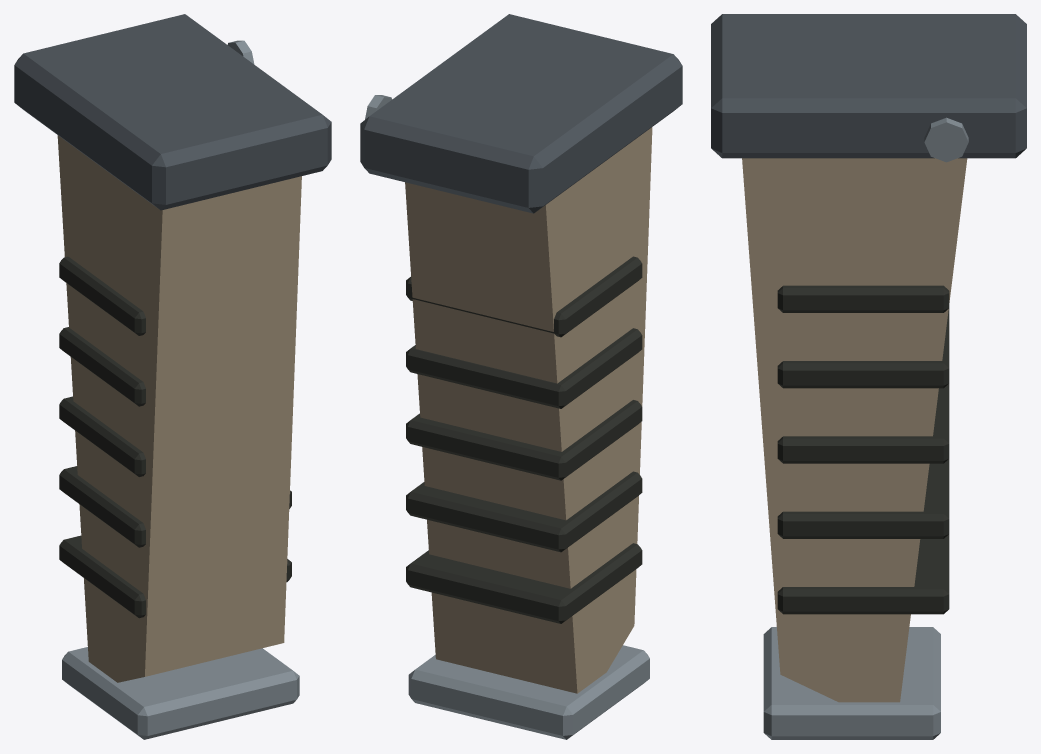
File: att_grip_mlok_rubber.glb
3 renders of one model, left to right at view 1: azimuth 30°, elevation 25°; view 2: azimuth 150°, elevation 25°; view 3: azimuth 270°, elevation 25°, orthographic. The views are drawn at different scales.
Visible parts, largest first — view 1: Geometry_att_grip_mlok_rubber; view 2: Geometry_att_grip_mlok_rubber; view 3: Geometry_att_grip_mlok_rubber.
Part boxes in pixels (x1,y1,x2,y2): Geometry_att_grip_mlok_rubber: [14, 14, 331, 739]; Geometry_att_grip_mlok_rubber: [360, 14, 682, 739]; Geometry_att_grip_mlok_rubber: [711, 14, 1026, 739].
Size of the model in its own units: 0.044 by 0.1285 by 0.057.
